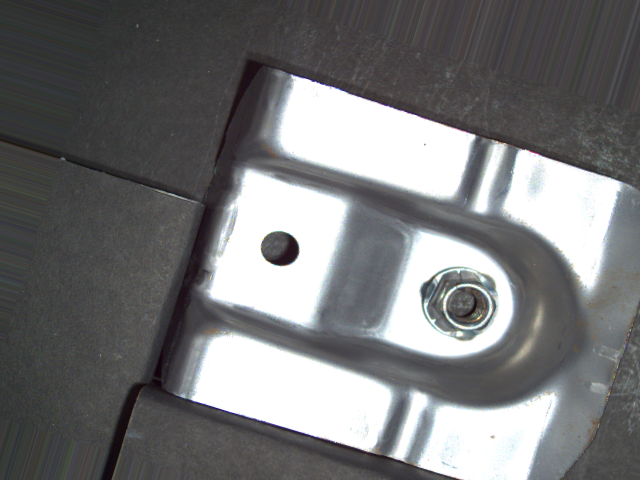good: (418, 263, 502, 340)
